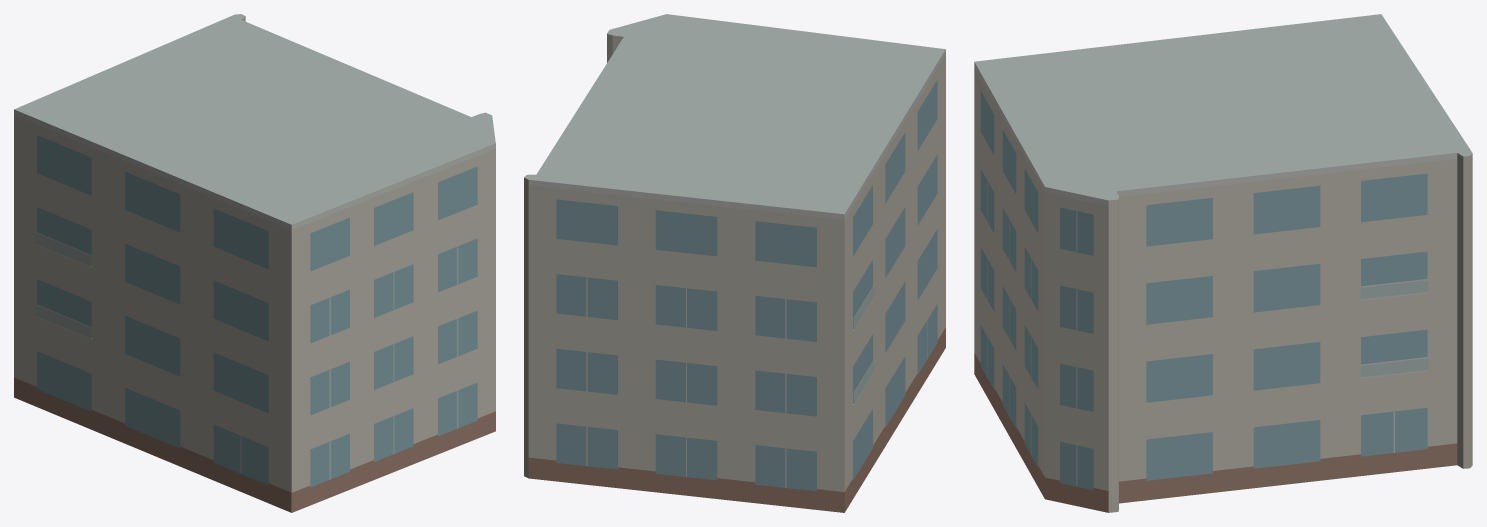
The model's file is survey-upis-32614942.glb.
3 renders of one model, left to right at view 1: azimuth 30°, elevation 25°; view 2: azimuth 150°, elevation 25°; view 3: azimuth 270°, elevation 25°, orthographic. The views are drawn at different scales.
Visible parts, largest first — view 1: survey-upis-32614942.tmp; view 2: survey-upis-32614942.tmp; view 3: survey-upis-32614942.tmp.
Boxes of the visible parts, box(x1,y1,x2,y2) form: survey-upis-32614942.tmp: box(14, 14, 495, 512); survey-upis-32614942.tmp: box(524, 14, 945, 512); survey-upis-32614942.tmp: box(974, 14, 1472, 512).
Size of the model in its own units: 16.4 by 12.8 by 18.52.
